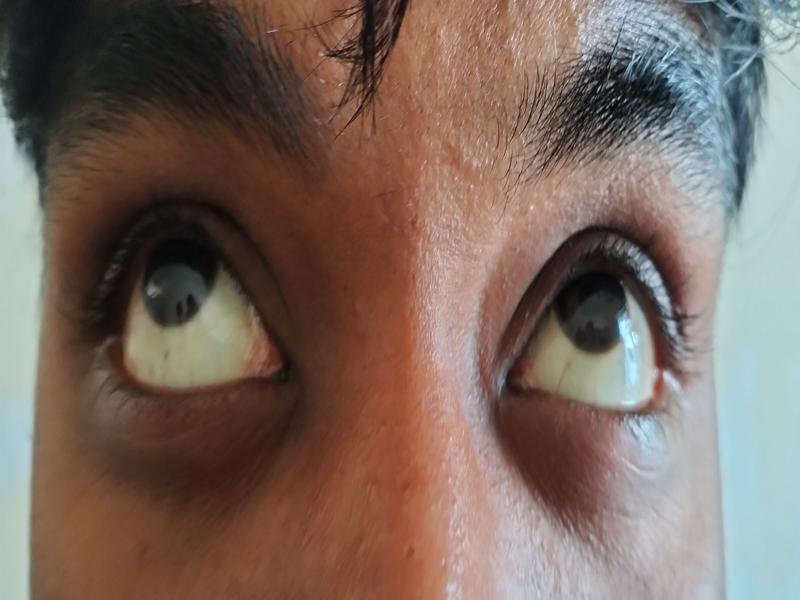EYE UP: (110, 259, 281, 397), (528, 264, 669, 409)
